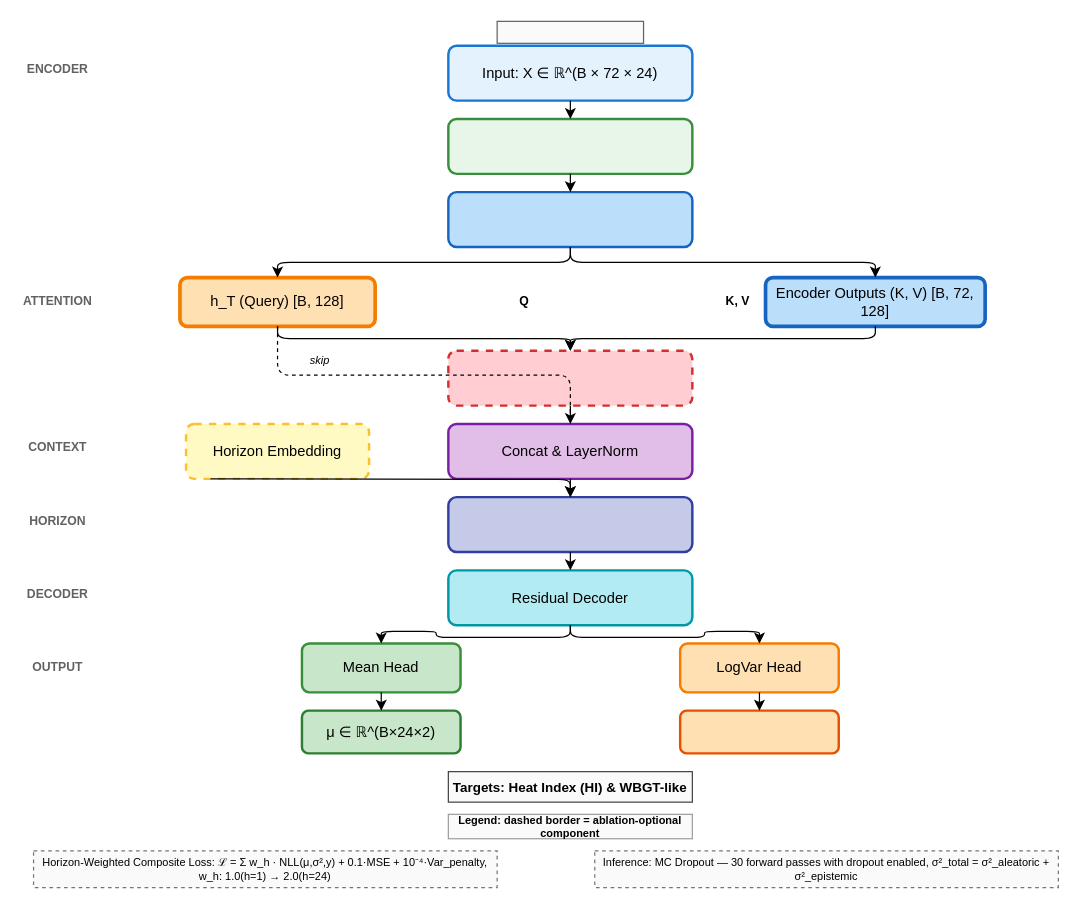
Image size: 1080x909. Some labels were removed from this diagram. Each missing label, with the box of its shape:
Feature Projection: (447, 117, 693, 174)
GRU Encoder: (447, 190, 693, 248)
log σ² ∈ ℝ^(B×24×2): (678, 709, 839, 754)
Multi-Head Attention: (447, 349, 693, 406)
Repeat & Concatenate: (447, 495, 693, 553)
~328K parameters: (496, 20, 644, 43)
